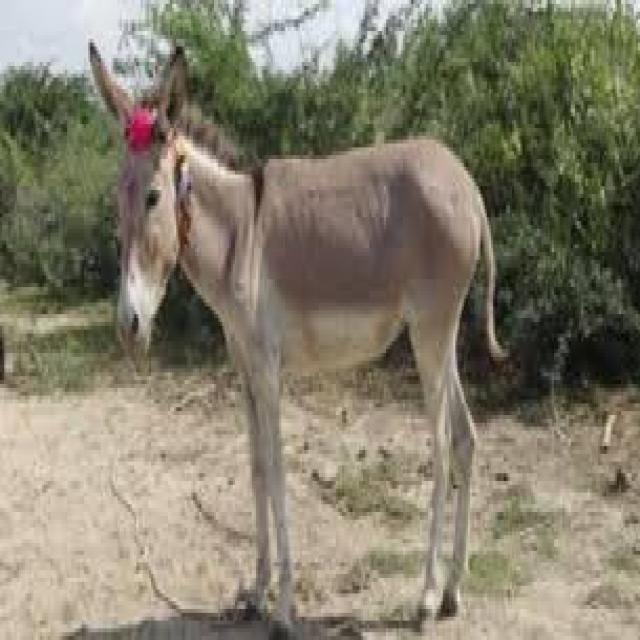Donkey: (65, 0, 546, 640)
